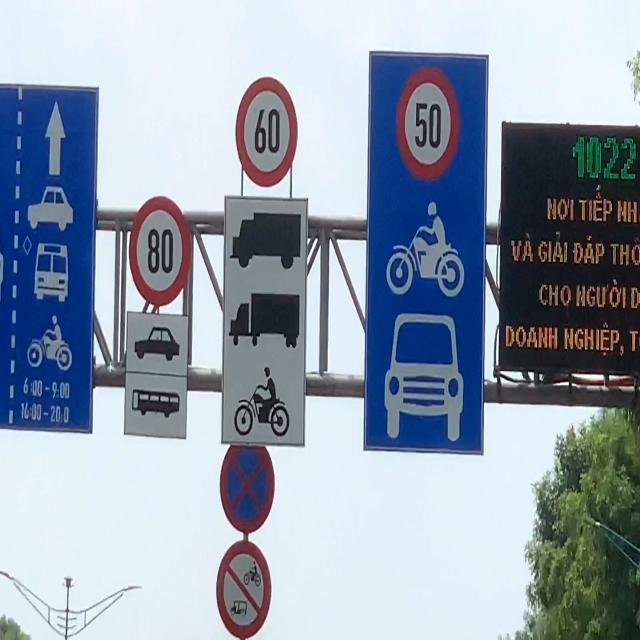127-toc-do-toi-da-50: (398, 66, 458, 178)
127-toc-do-toi-da-60: (228, 76, 300, 184)
127-toc-do-toi-da-80: (130, 194, 190, 310)
130-cam-dung-va-do-xe: (219, 442, 277, 528)
